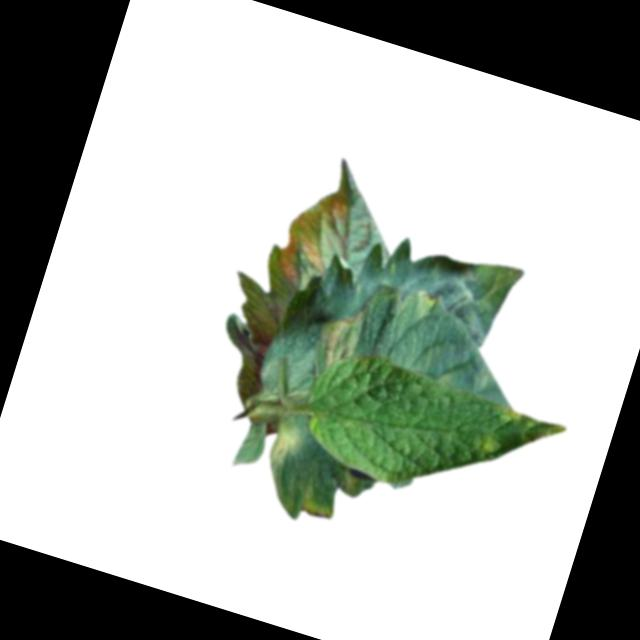Leaf_Mold: (272, 178, 361, 297), (316, 303, 373, 375), (266, 414, 314, 469), (297, 481, 343, 524), (410, 284, 446, 319), (494, 402, 523, 425)
